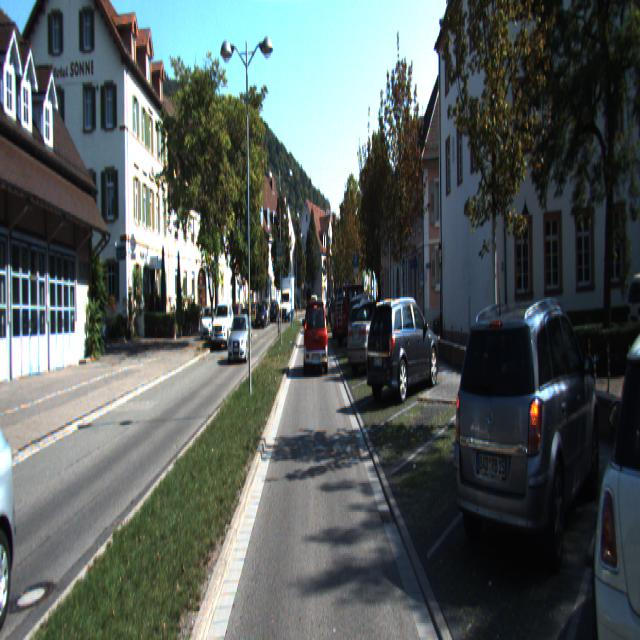Car: (450, 306, 604, 599), (590, 301, 640, 638), (0, 359, 37, 624), (365, 291, 440, 400), (346, 298, 400, 371), (333, 284, 372, 346), (304, 298, 328, 374), (228, 313, 252, 363), (212, 302, 235, 350), (88, 308, 107, 347), (226, 299, 244, 338), (201, 304, 215, 338), (255, 304, 268, 328)
